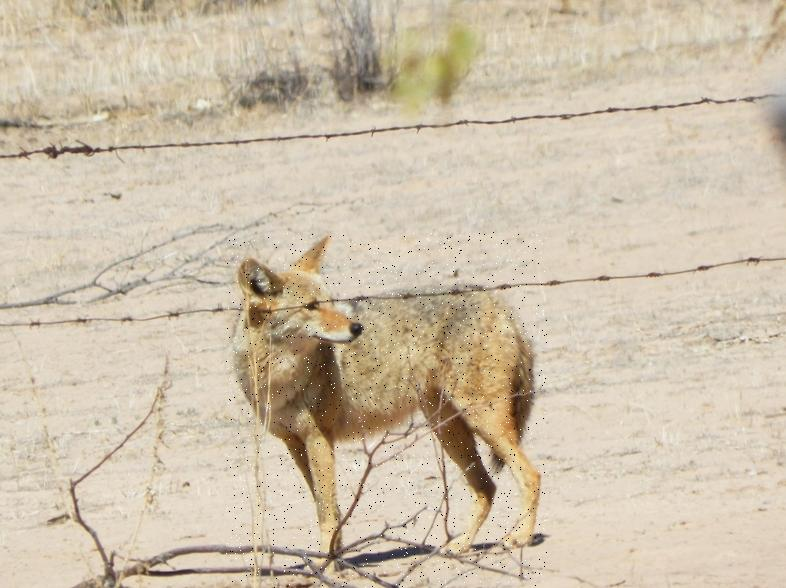Coyote: (226, 232, 547, 588)
